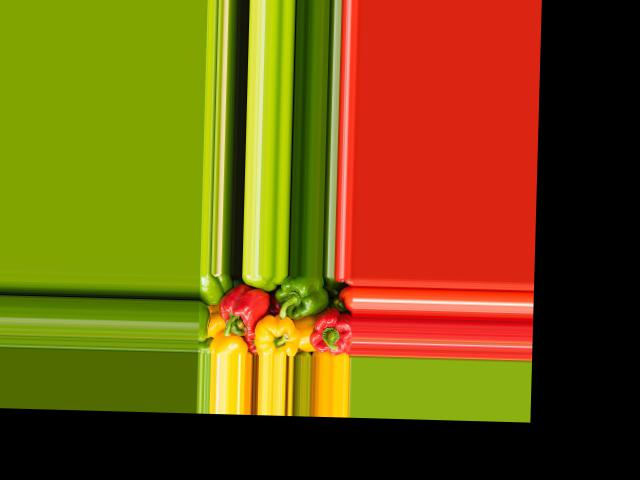bell_pepper: (304, 307, 351, 355)
